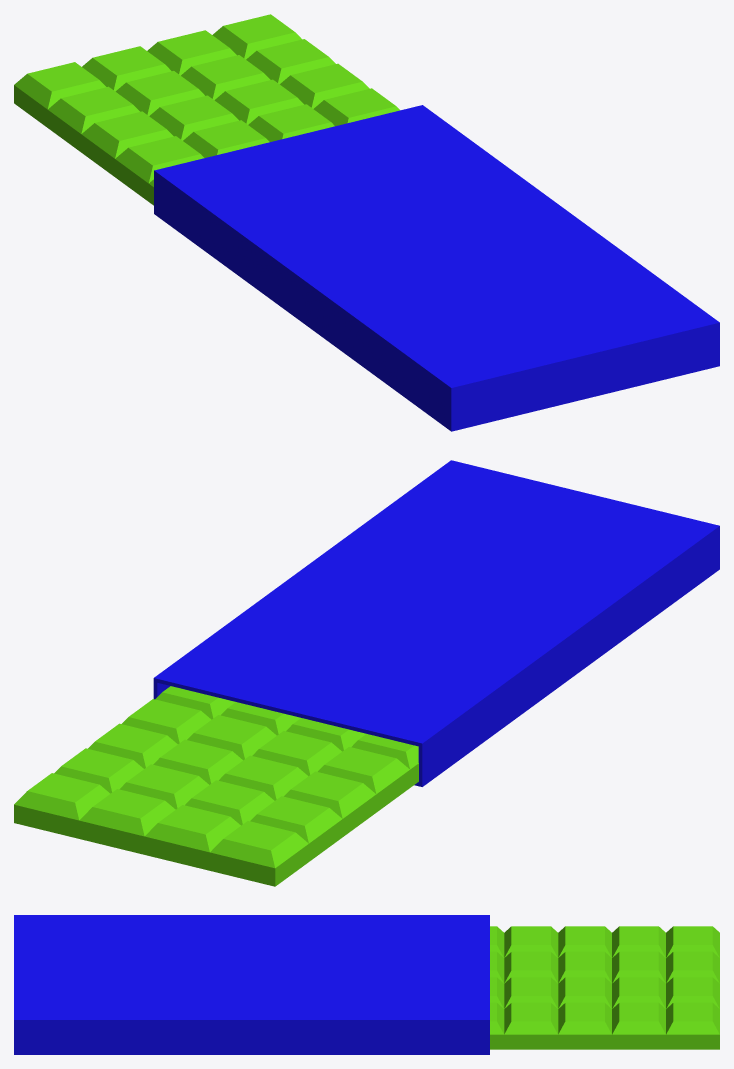
Rendered from Plutoni Bar.fbx.
3 renders of one model, top to bottom at view 1: azimuth 30°, elevation 25°; view 2: azimuth 150°, elevation 25°; view 3: azimuth 270°, elevation 25°, orthographic. The views are drawn at different scales.
Visible parts, largest first — view 1: Chocolate, Cube; view 2: Chocolate, Cube; view 3: Chocolate, Cube.
Boxes of the visible parts, x1,y1,x2,y2 form: Chocolate: [154, 105, 719, 431]; Cube: [14, 14, 399, 205]; Chocolate: [153, 460, 719, 786]; Cube: [14, 686, 418, 886]; Chocolate: [14, 915, 489, 1054]; Cube: [490, 926, 719, 1049].
Bounding box in the file's own units: 206 × 31.93 × 585.
2 materials, 1 textured.
